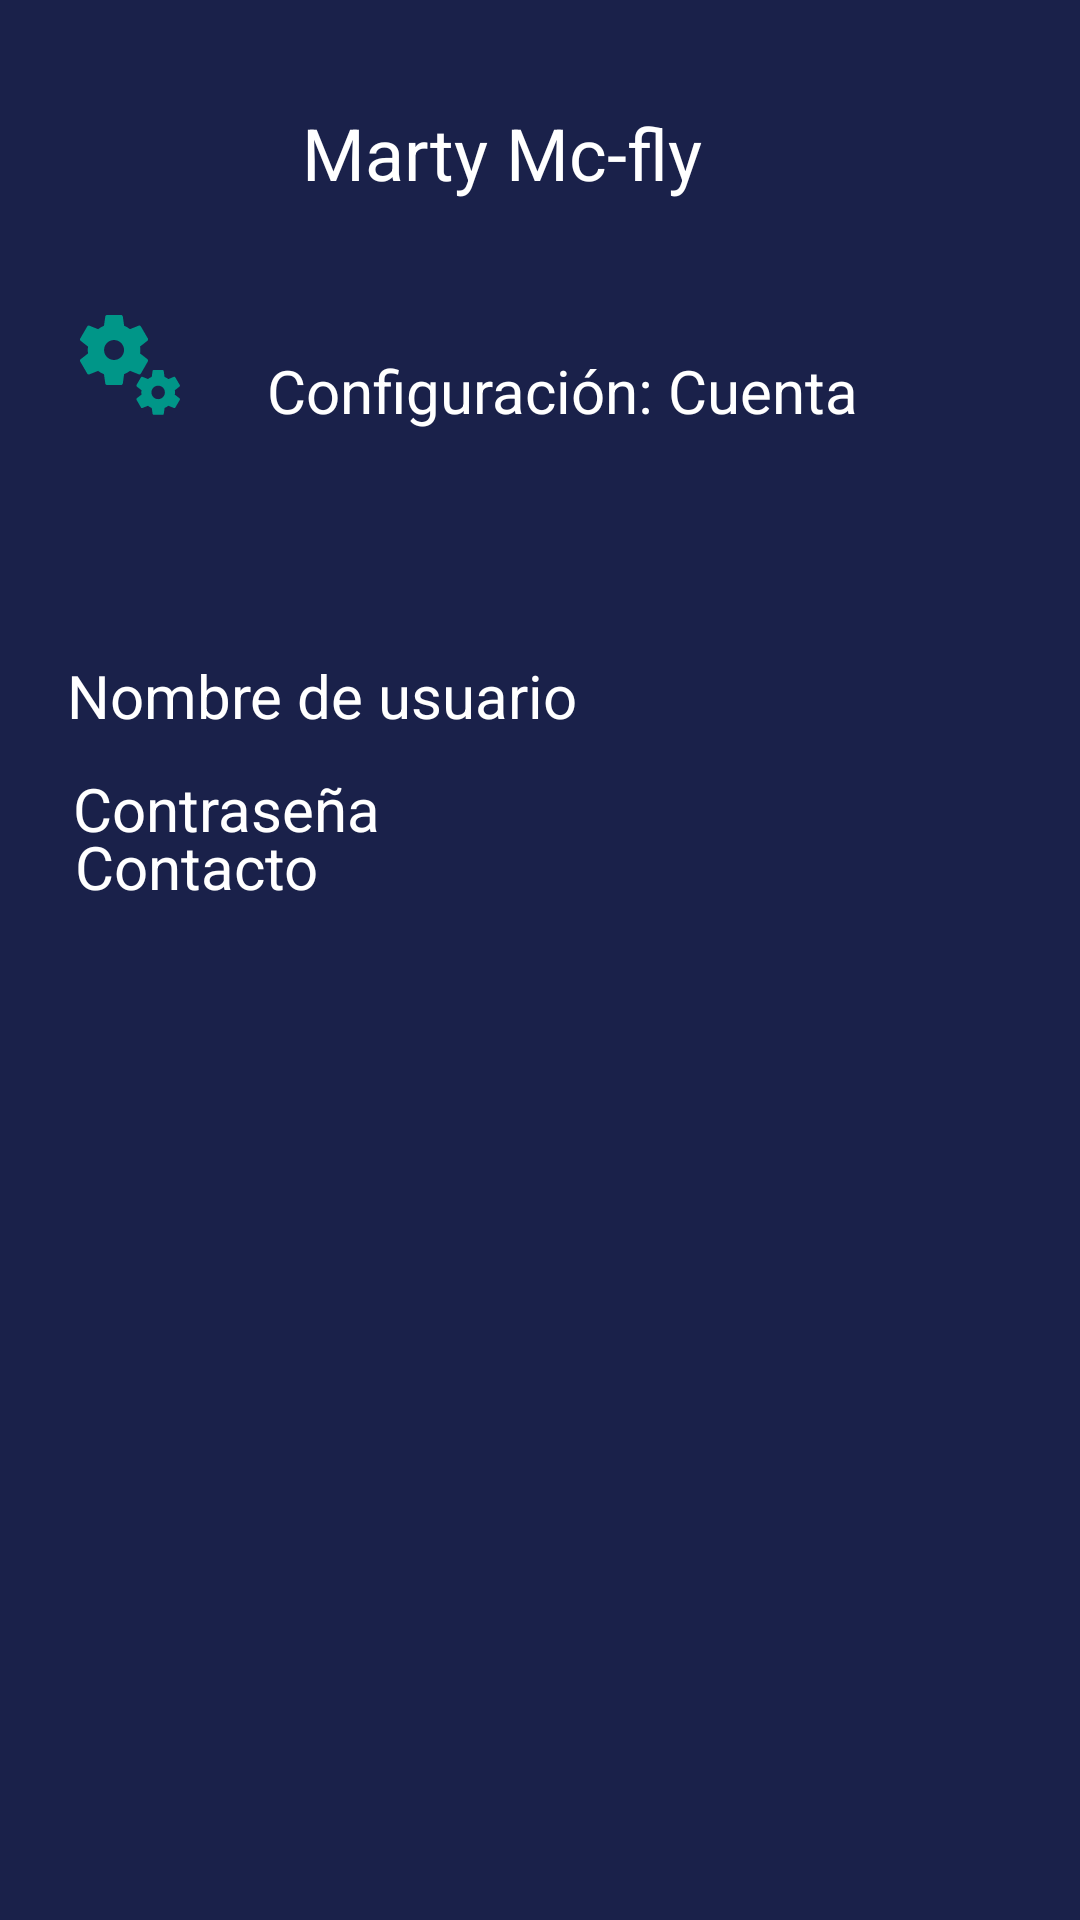

Where icons sit on this 1080px x 1920px app screen, as (x1, y1, x2, y2):
configverde: (80, 315, 180, 415)
